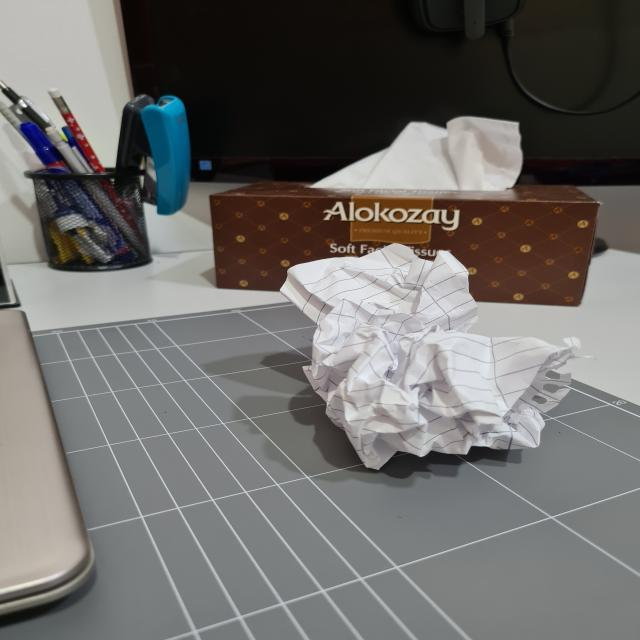Paper: (279, 242, 576, 470)
